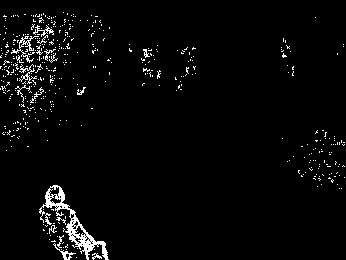person: (38, 181, 109, 260)
